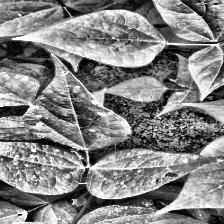Bean Rust: (26, 50, 132, 150), (84, 148, 224, 196), (157, 134, 224, 215), (0, 142, 85, 195), (135, 0, 224, 43)
